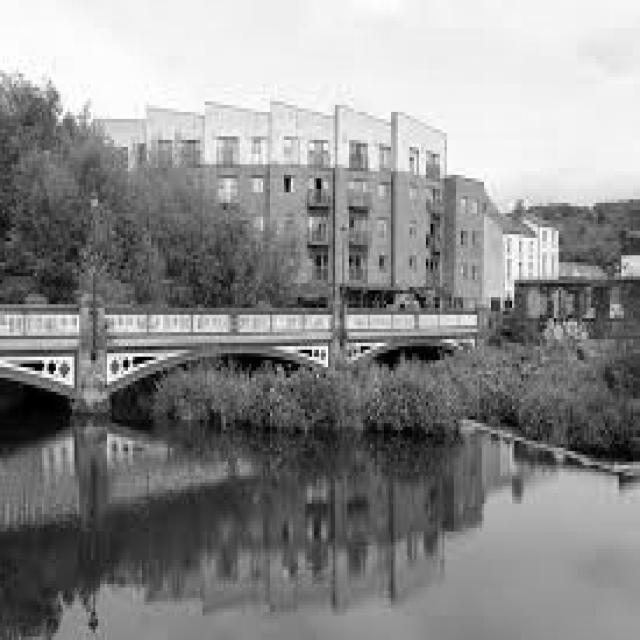Bridges: (6, 215, 540, 502)
